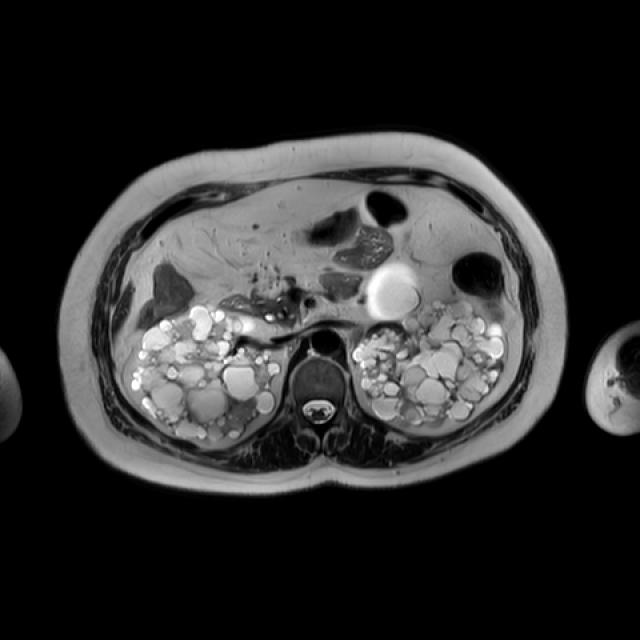sag: (133, 306, 282, 441)
sol: (357, 263, 505, 423)
